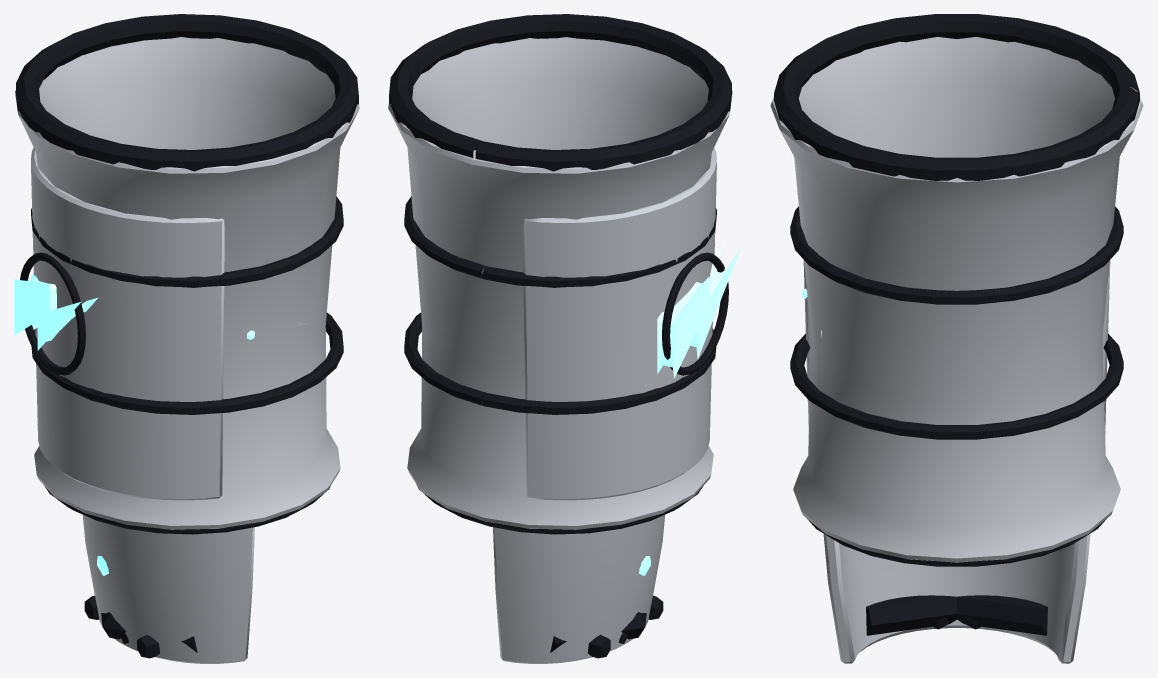
The model's file is esc_ashen_apocalypse_gloves_R.glb.
3 views of the same model, side by side, from view 1: azimuth 30°, elevation 25°; view 2: azimuth 150°, elevation 25°; view 3: azimuth 270°, elevation 25° (orthographic). The views are drawn at different scales.
Parts seen in each view (by area): view 1: esc_ashen_apocalypse_gloves, AT_hand_R; view 2: esc_ashen_apocalypse_gloves, AT_hand_R; view 3: esc_ashen_apocalypse_gloves, AT_hand_R.
Boxes of the visible parts, <box> form: esc_ashen_apocalypse_gloves: <box>14,14,359,534</box>; AT_hand_R: <box>82,515,254,663</box>; esc_ashen_apocalypse_gloves: <box>388,14,741,534</box>; AT_hand_R: <box>493,515,664,663</box>; esc_ashen_apocalypse_gloves: <box>770,14,1143,566</box>; AT_hand_R: <box>823,534,1090,663</box>.
Bounding box in the file's own units: 0.1971 × 0.3408 × 0.2004.
